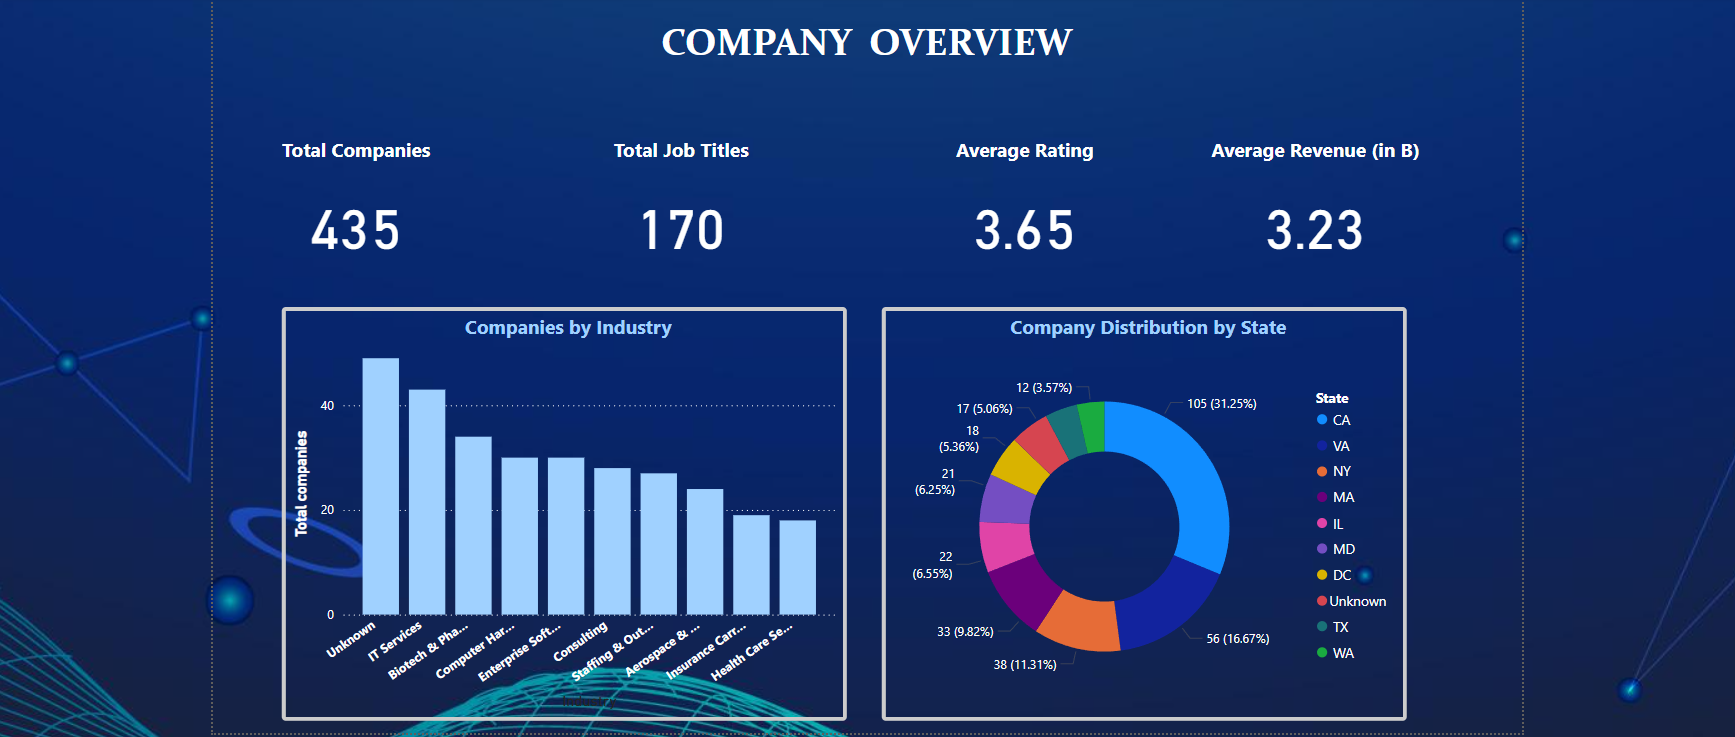

What the dashboard file says about the page in this screenshot:
{"tool":"powerbi","page":{"name":"Overview","canvas":[1280,720],"ordinal":0},"visuals":[{"type":"cardVisual","title":"Total Companies","fields":{"Data":["Count(Cleaned.Company Name)"]},"box":[0,137,280,148],"z":0},{"type":"cardVisual","title":"Average Revenue (in B)","fields":{"Data":["Avg(Cleaned.Max Revenue (Billion USD))"]},"box":[934.2,137,288.6,148],"z":1000},{"type":"cardVisual","title":"Average  Rating","fields":{"Data":["Avg(Cleaned.Rating)"]},"box":[654.2,137,280,148],"z":2000},{"type":"cardVisual","title":"Total Job Titles","fields":{"Data":["Count(Cleaned.Job Title)"]},"box":[315.5,137,284.9,148],"z":3000},{"type":"clusteredColumnChart","title":"Companies by Industry","fields":{"Y":["Count(Cleaned.Company Name)"],"Category":["Cleaned.Industry"]},"box":[67.3,303.3,552.7,404.8],"z":4000},{"type":"donutChart","title":"Company Distribution by State","fields":{"Category":["Cleaned.State"],"Y":["Count(Cleaned.Company Name)"]},"box":[654.2,303.3,513.6,404.8],"z":5000},{"type":"textbox","box":[280,17.1,719,62.4],"z":6000}]}

Visuals, with their boxes on the page's 1280x720 design canvas (x1, y1, x2, y2). These are canvas units, not pixel positions in the 1735x737 screenshot, which may show the page scaled, cropped or inside an application window:
"Total Companies" cardVisual: <region>0, 137, 280, 285</region>
"Average Revenue (in B)" cardVisual: <region>934, 137, 1223, 285</region>
"Average  Rating" cardVisual: <region>654, 137, 934, 285</region>
"Total Job Titles" cardVisual: <region>316, 137, 600, 285</region>
"Companies by Industry" clusteredColumnChart: <region>67, 303, 620, 708</region>
"Company Distribution by State" donutChart: <region>654, 303, 1168, 708</region>
textbox: <region>280, 17, 999, 80</region>
